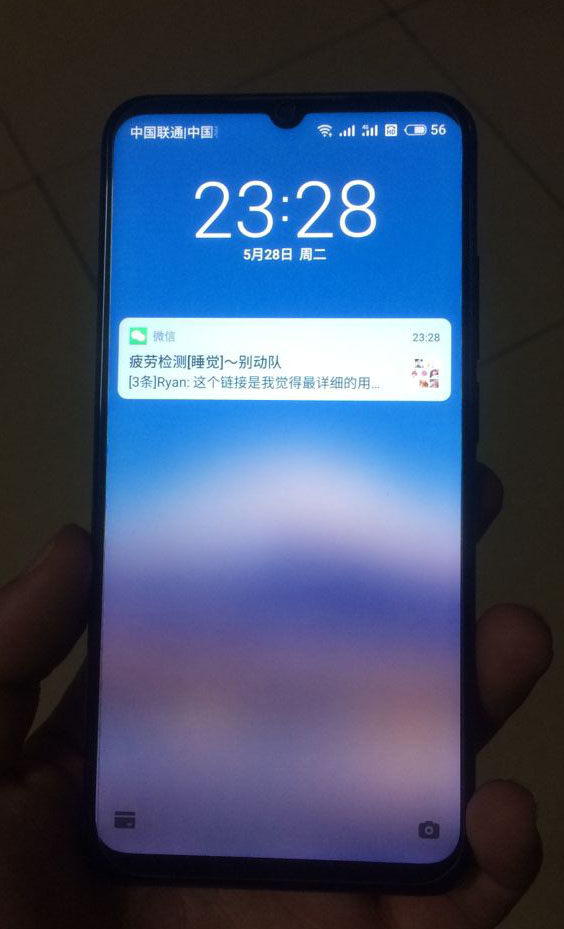phone: (67, 83, 492, 897)
